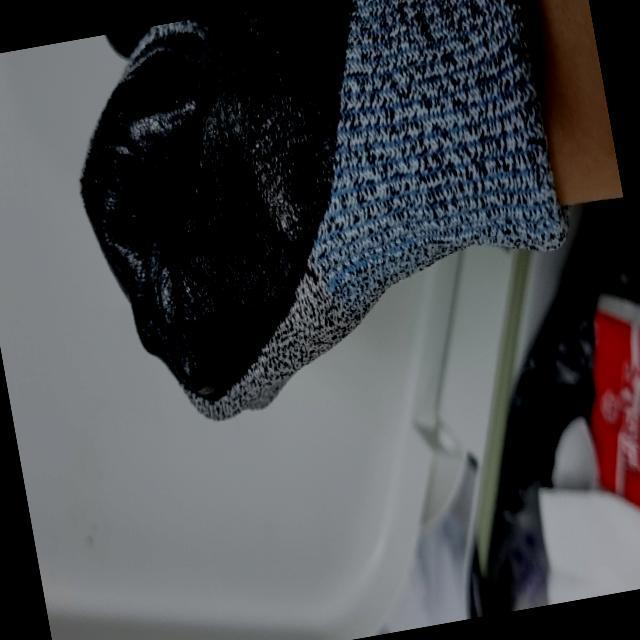Gloves: (77, 0, 575, 426)
